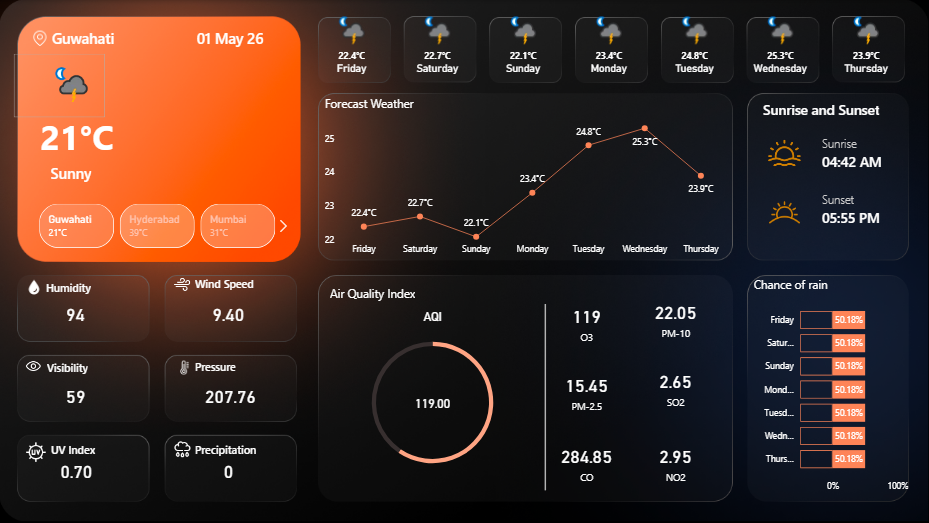

What the dashboard file says about the page in this screenshot:
{"tool":"powerbi","page":{"name":"Page 1","canvas":[1280,720],"ordinal":0},"visuals":[{"type":"advancedSlicerVisual","fields":{"Values":["Current.location.name"]},"box":[30.3,275.6,376.1,71.6],"z":0},{"type":"shape","box":[15,151,183.9,71.8],"z":1000},{"type":"shape","box":[22.4,222.8,154,31.4],"z":2000},{"type":"shape","box":[38.6,37.2,154.3,31.7],"z":3000},{"type":"shape","box":[241.1,37.2,154.3,31.7],"z":4000},{"type":"cardVisual","fields":{"Data":["Min(forecast_day.current.condition.icon)"]},"box":[15,68.8,136.1,98.7],"z":5000},{"type":"image","box":[13.5,37.4,85.2,31.4],"z":6000},{"type":"image","box":[32.2,379.3,32.2,31],"z":7000},{"type":"shape","box":[64.4,381.6,83.9,27.6],"z":8000},{"type":"image","box":[233.3,374.7,36.8,34.5],"z":9000},{"type":"shape","box":[270.1,374.7,111.5,31],"z":10000},{"type":"image","box":[29.9,486.2,34.5,36.8],"z":11000},{"type":"shape","box":[66.7,490.8,83.9,27.6],"z":12000},{"type":"image","box":[241.4,490.8,28.7,28.7],"z":13000},{"type":"shape","box":[270.1,488.5,111.5,31],"z":14000},{"type":"image","box":[29.9,602.3,41.4,39.1],"z":15000},{"type":"image","box":[233.3,596.6,36.8,44.8],"z":16000},{"type":"shape","box":[71.3,602.3,111.5,31],"z":17000},{"type":"shape","box":[270.1,602.3,102.3,31],"z":18000},{"type":"card","fields":{"Values":["Sum(Current.current.humidity)"]},"box":[58.6,405.7,92,54],"z":19000},{"type":"card","fields":{"Values":["Sum(forecast_day.current.uv)"]},"box":[60.9,621.8,92,54],"z":20000},{"type":"card","fields":{"Values":["Sum(Current.current.precip_in)"]},"box":[270.1,621.8,92,54],"z":21000},{"type":"card","fields":{"Values":["Sum(forecast_day.forecast.forecastday.day.avgvis_km)"]},"box":[58.6,518.4,92,54],"z":22000},{"type":"card","fields":{"Values":["Sum(forecast_day.current.pressure_in)"]},"box":[272.4,518.4,92,54],"z":23000},{"type":"card","fields":{"Values":["Sum(Current.current.wind_kph)"]},"box":[270.1,405.7,92,54],"z":24000},{"type":"advancedSlicerVisual","fields":{"Values":["forecast_day.Day_name"]},"box":[425.4,14.3,831.7,106.3],"z":25000},{"type":"lineChart","title":"Forecast Weather","fields":{"Y":["Sum(forecast_day.forecast.forecastday.day.avgtemp_c)"],"Category":["forecast_day.Day_name"]},"box":[443.2,132.1,558.8,228.5],"z":26000},{"type":"shape","box":[1051.5,132.1,174.8,37.2],"z":27000},{"type":"shape","box":[1132.7,275.3,104.6,48.2],"z":28000},{"type":"shape","box":[1132.7,198.2,104.6,48.2],"z":29000},{"type":"shape","box":[1132.7,181.7,111.5,31.7],"z":30000},{"type":"shape","box":[1132.7,258.8,111.5,31.7],"z":31000},{"type":"image","box":[1051.5,183.1,59.2,55.1],"z":32000},{"type":"image","box":[1044.6,258.8,72.9,67.4],"z":33000},{"type":"hundredPercentStackedBarChart","title":"Chance of rain","fields":{"Category":["forecast_day.Day_name"],"Y":["Sum(forecast_hour.forecast.forecastday.hour.chance_of_rain)","_Measures.left-chance"]},"box":[1033.6,381.2,223,305.5],"z":34000},{"type":"shape","box":[455.1,389.9,142,29],"z":35000},{"type":"card","fields":{"Values":["Sum(Current.current.air_quality.pm10)"]},"box":[885.5,404.3,92.8,66.7],"z":36000},{"type":"card","fields":{"Values":["Sum(Current.current.air_quality.pm2_5)"]},"box":[762.3,505.8,92.8,66.7],"z":37000},{"type":"card","fields":{"Values":["Sum(Current.current.air_quality.co)"]},"box":[762.3,602.9,92.8,66.7],"z":38000},{"type":"card","fields":{"Values":["Sum(Current.current.air_quality.no2)"]},"box":[885.5,602.9,92.8,66.7],"z":39000},{"type":"card","fields":{"Values":["Sum(Current.current.air_quality.so2)"]},"box":[885.5,500,92.8,66.7],"z":40000},{"type":"card","fields":{"Values":["Sum(Current.current.air_quality.o3)"]},"box":[762.3,410.1,92.8,66.7],"z":41000},{"type":"shape","box":[673.9,418.8,155.1,256.5],"z":42000},{"type":"donutChart","title":"AQI ","fields":{"Y":["_Measures.Overall_AQI","_Measures.aqi max"]},"box":[480.3,425.3,232.6,238.1],"z":43000},{"type":"card","fields":{"Values":["_Measures.Overall_AQI"]},"box":[550.5,523,92.2,66.1],"z":43001}]}

Visuals, with their boxes in screenshot pixels (x1, y1, x2, y2), scaled from the page's 1280x720 canvas onto the 929x523 screenshot:
advancedSlicerVisual - Current.location.name: box=[22, 200, 295, 252]
shape: box=[11, 110, 144, 162]
shape: box=[16, 162, 128, 185]
shape: box=[28, 27, 140, 50]
shape: box=[175, 27, 287, 50]
cardVisual - Min(forecast_day.current.condition.icon): box=[11, 50, 110, 122]
image: box=[10, 27, 72, 50]
image: box=[23, 276, 47, 298]
shape: box=[47, 277, 108, 297]
image: box=[169, 272, 196, 297]
shape: box=[196, 272, 277, 295]
image: box=[22, 353, 47, 380]
shape: box=[48, 357, 109, 377]
image: box=[175, 357, 196, 377]
shape: box=[196, 355, 277, 377]
image: box=[22, 438, 52, 466]
image: box=[169, 433, 196, 466]
shape: box=[52, 438, 133, 460]
shape: box=[196, 438, 270, 460]
card - Sum(Current.current.humidity): box=[43, 295, 109, 334]
card - Sum(forecast_day.current.uv): box=[44, 452, 111, 491]
card - Sum(Current.current.precip_in): box=[196, 452, 263, 491]
card - Sum(forecast_day.forecast.forecastday.day.avgvis_km): box=[43, 377, 109, 416]
card - Sum(forecast_day.current.pressure_in): box=[198, 377, 264, 416]
card - Sum(Current.current.wind_kph): box=[196, 295, 263, 334]
advancedSlicerVisual - forecast_day.Day_name: box=[309, 10, 912, 88]
"Forecast Weather" lineChart: box=[322, 96, 727, 262]
shape: box=[763, 96, 890, 123]
shape: box=[822, 200, 898, 235]
shape: box=[822, 144, 898, 179]
shape: box=[822, 132, 903, 155]
shape: box=[822, 188, 903, 211]
image: box=[763, 133, 806, 173]
image: box=[758, 188, 811, 237]
"Chance of rain" hundredPercentStackedBarChart: box=[750, 277, 912, 499]
shape: box=[330, 283, 433, 304]
card - Sum(Current.current.air_quality.pm10): box=[643, 294, 710, 342]
card - Sum(Current.current.air_quality.pm2_5): box=[553, 367, 621, 416]
card - Sum(Current.current.air_quality.co): box=[553, 438, 621, 486]
card - Sum(Current.current.air_quality.no2): box=[643, 438, 710, 486]
card - Sum(Current.current.air_quality.so2): box=[643, 363, 710, 412]
card - Sum(Current.current.air_quality.o3): box=[553, 298, 621, 346]
shape: box=[489, 304, 602, 491]
"AQI " donutChart: box=[349, 309, 517, 482]
card - _Measures.Overall_AQI: box=[400, 380, 466, 428]
